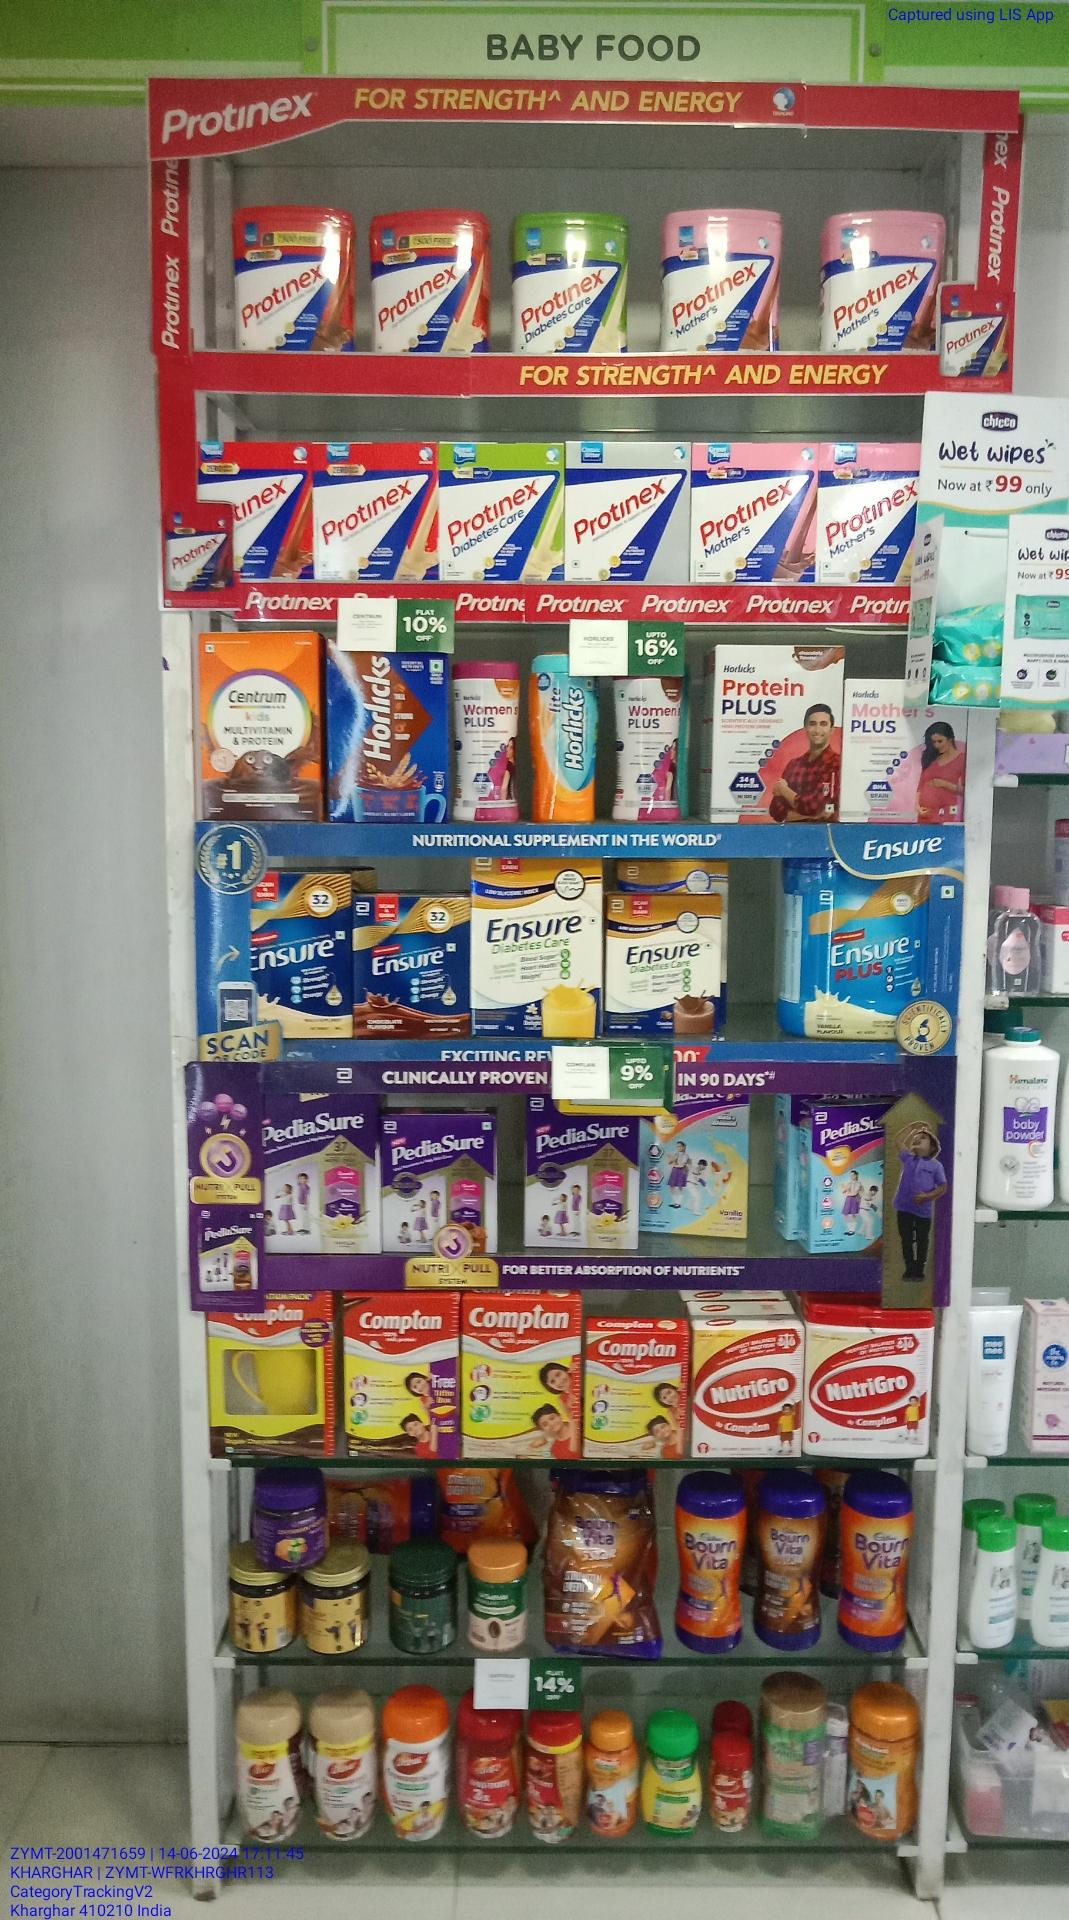BOURN_VITA_1_KG_JAR: (836, 1477, 912, 1650), (677, 1477, 748, 1662)
COMPLAN_CHOCOLATE_500_GMS_PACK: (342, 1295, 458, 1459)
COMPLAN_KESAR_BADAM_200_GMS_PACK: (586, 1332, 687, 1459)
COMPLAN_KESAR_BADAM_500_GMS_PACK: (461, 1294, 579, 1459)
ENSURE_VANILLA_400_G_PACK: (250, 872, 350, 1041)
HORLICKS_LITE_REGULAR_MALT_500_GM_JAR: (531, 654, 595, 820)
HORLICK_CHOCOLATE_1_KG_PACK: (326, 654, 449, 824)
PEDIASURE_CHOCOLATE_500_G_PACK: (382, 1112, 498, 1254)
PEDIASURE_VANILLA_500_G_PACK: (262, 1092, 378, 1253), (525, 1103, 640, 1251)
PROTINEX_CHOCOLATE_400_G_JAR: (233, 205, 354, 354)
PROTINEX_VANILLA_400_G_JAR: (370, 207, 487, 355)
